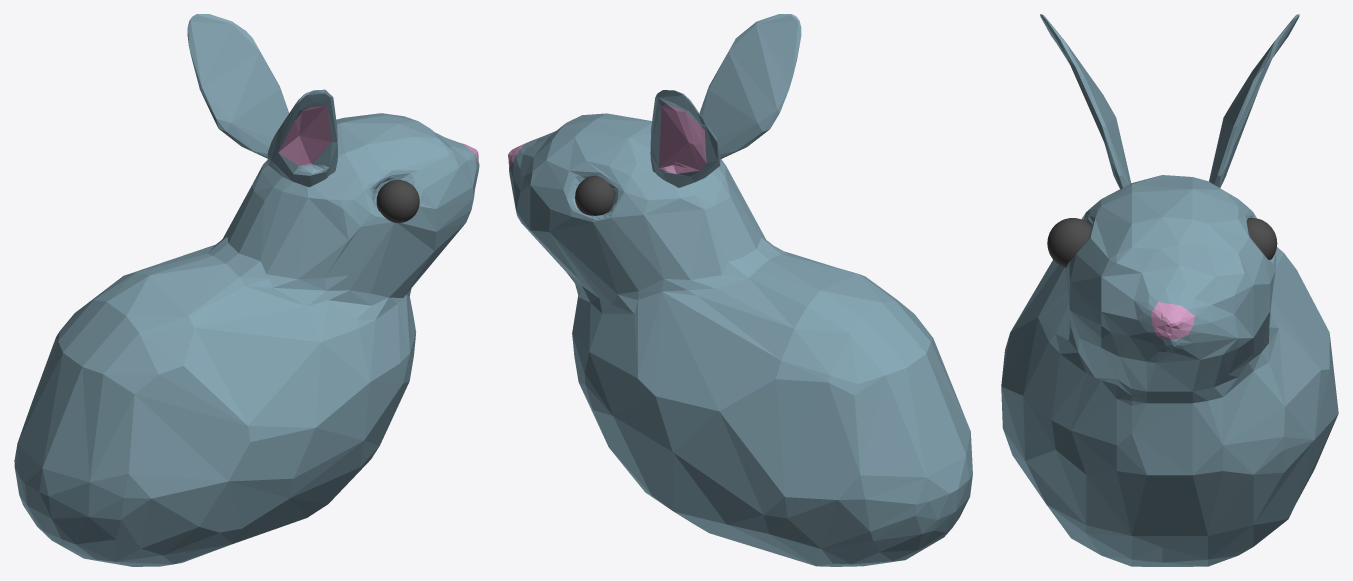
File: rabbit.fbx
3 views of the same model, side by side, from view 1: azimuth 30°, elevation 25°; view 2: azimuth 150°, elevation 25°; view 3: azimuth 270°, elevation 25° (orthographic). The views are drawn at different scales.
Visible parts, largest first — view 1: Rabbit, Eye; view 2: Rabbit, Eye; view 3: Rabbit, Eye.
Part boxes in pixels (bbox=[...]): Rabbit: bbox=[14, 14, 479, 566]; Eye: bbox=[376, 179, 419, 223]; Rabbit: bbox=[508, 14, 972, 566]; Eye: bbox=[575, 176, 614, 215]; Rabbit: bbox=[1001, 14, 1338, 566]; Eye: bbox=[1047, 218, 1277, 267].
Size of the model in its own units: 354 by 355 by 196.
